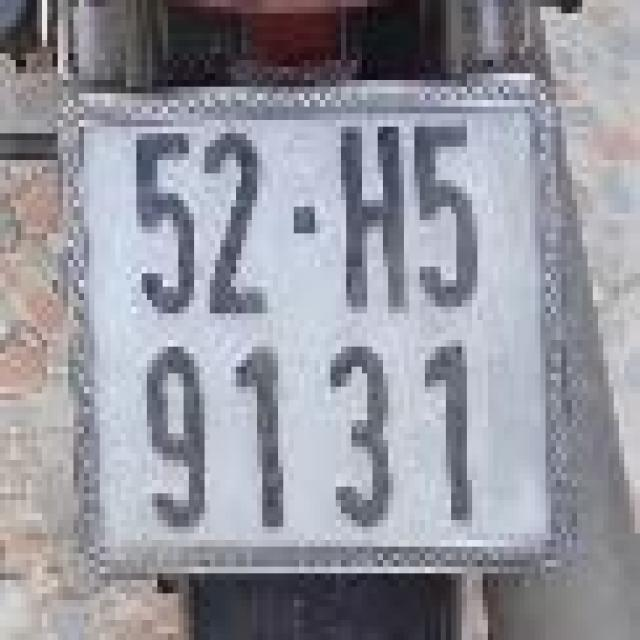1: (414, 330, 482, 530), (228, 330, 291, 537)
2: (197, 117, 275, 323)
3: (318, 337, 402, 530)
5: (116, 126, 204, 326), (407, 97, 480, 330)
9: (134, 334, 218, 534)
H: (322, 116, 412, 316)
